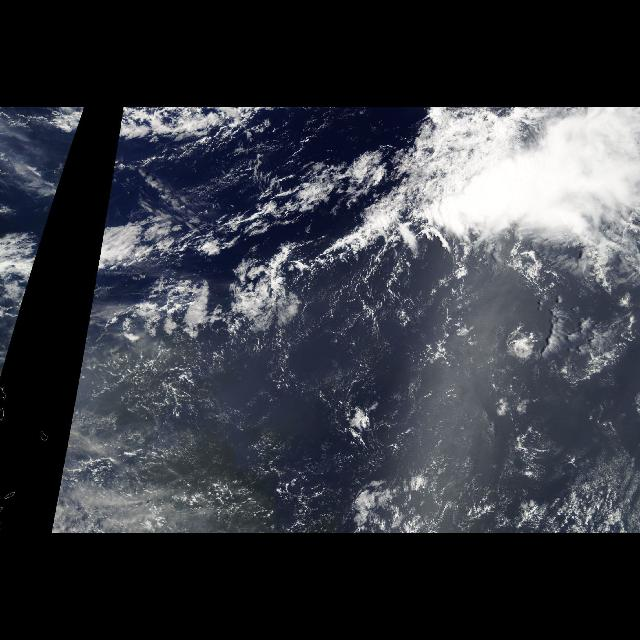Gravel: (79, 250, 313, 418)
Sugar: (96, 359, 636, 533)
